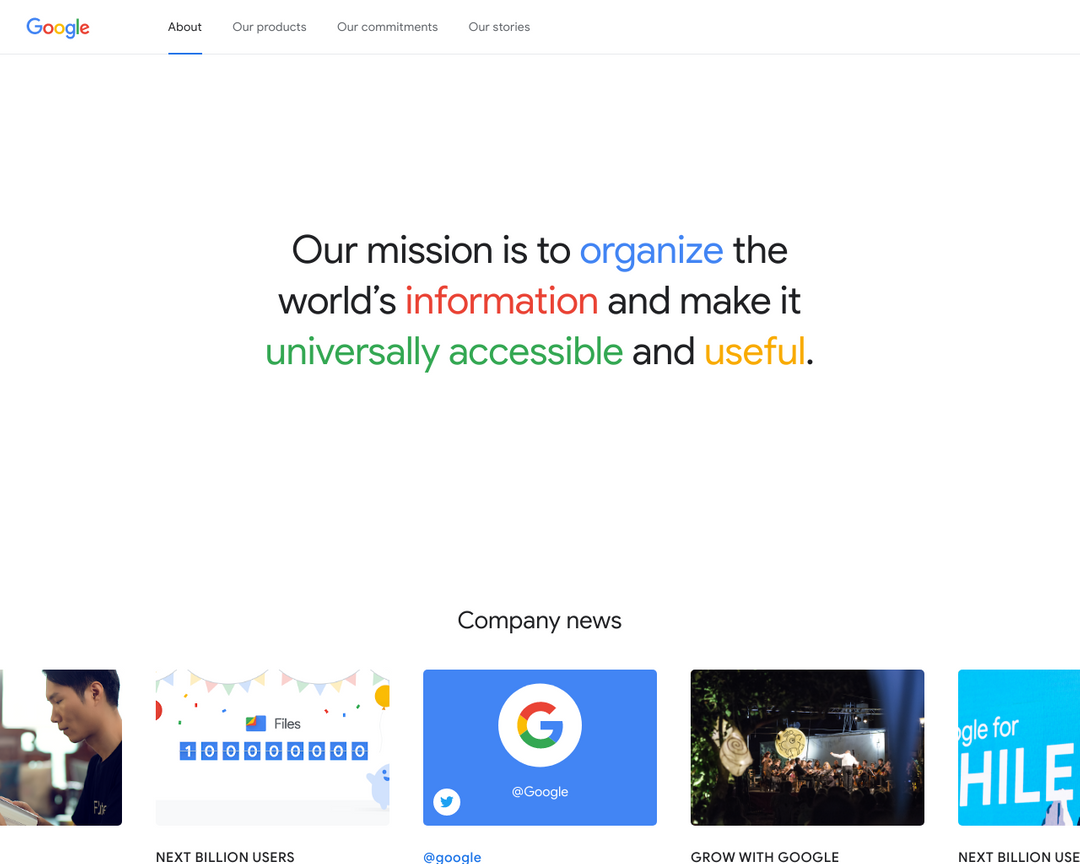Google: (20, 12, 95, 44)
